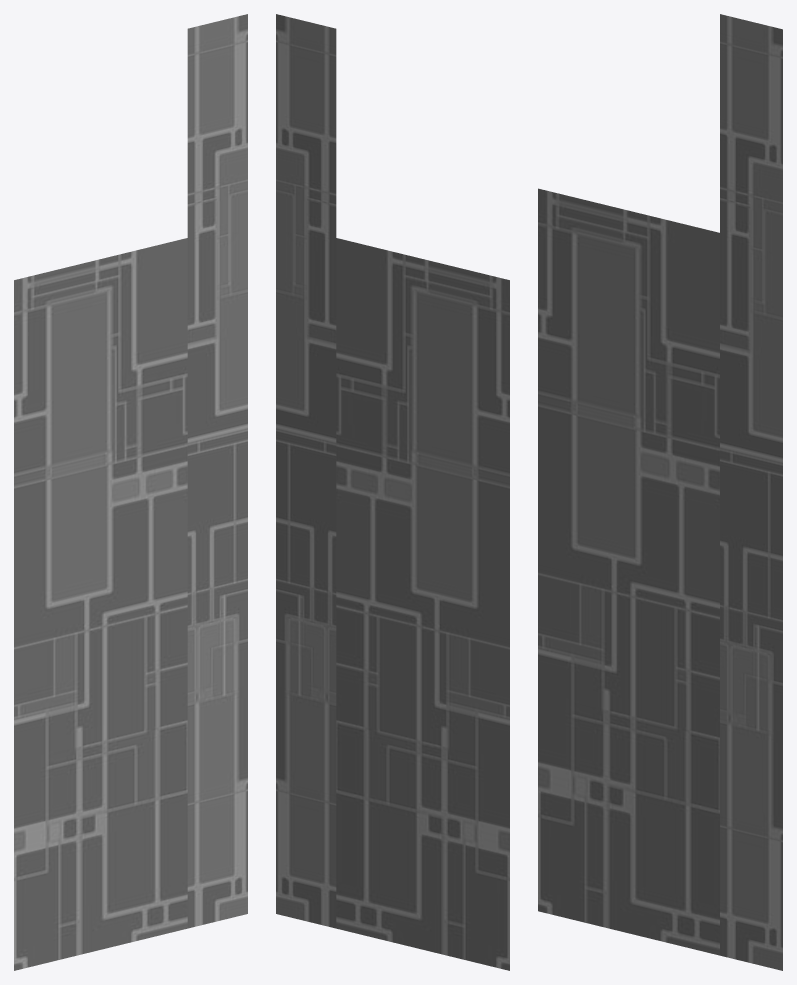
The model's file is SM_Pannel_part_09.glb.
3 views of the same model, side by side, from view 1: azimuth 30°, elevation 25°; view 2: azimuth 150°, elevation 25°; view 3: azimuth 330°, elevation 25° (orthographic). The views are drawn at different scales.
Parts seen in each view (by area): view 1: SM_Pannel_part_09; view 2: SM_Pannel_part_09; view 3: SM_Pannel_part_09.
Part boxes in pixels (left/top/right/bottom): SM_Pannel_part_09: left=14, top=14, right=247, bottom=970; SM_Pannel_part_09: left=276, top=14, right=509, bottom=970; SM_Pannel_part_09: left=538, top=14, right=782, bottom=970.
Bounding box in the file's own units: 1.13 × 4.15 × 7.26e-07.
1 material, 1 textured.
